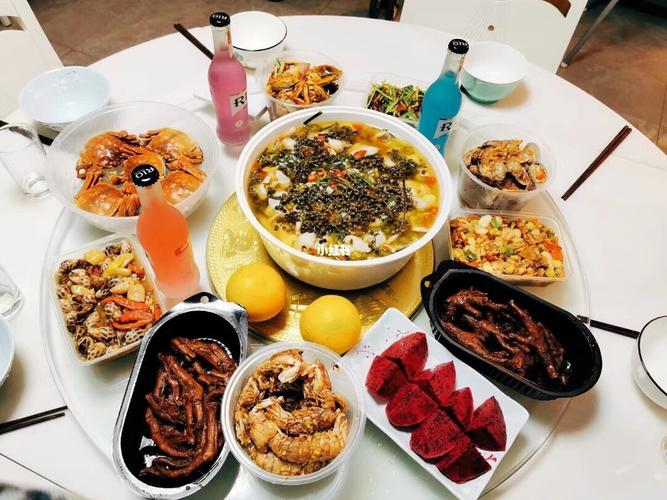food: (229, 93, 451, 288), (118, 290, 252, 490), (425, 266, 599, 394), (224, 332, 366, 487), (48, 100, 218, 228), (47, 227, 172, 363), (441, 201, 573, 288), (455, 124, 559, 208), (261, 44, 347, 117)
